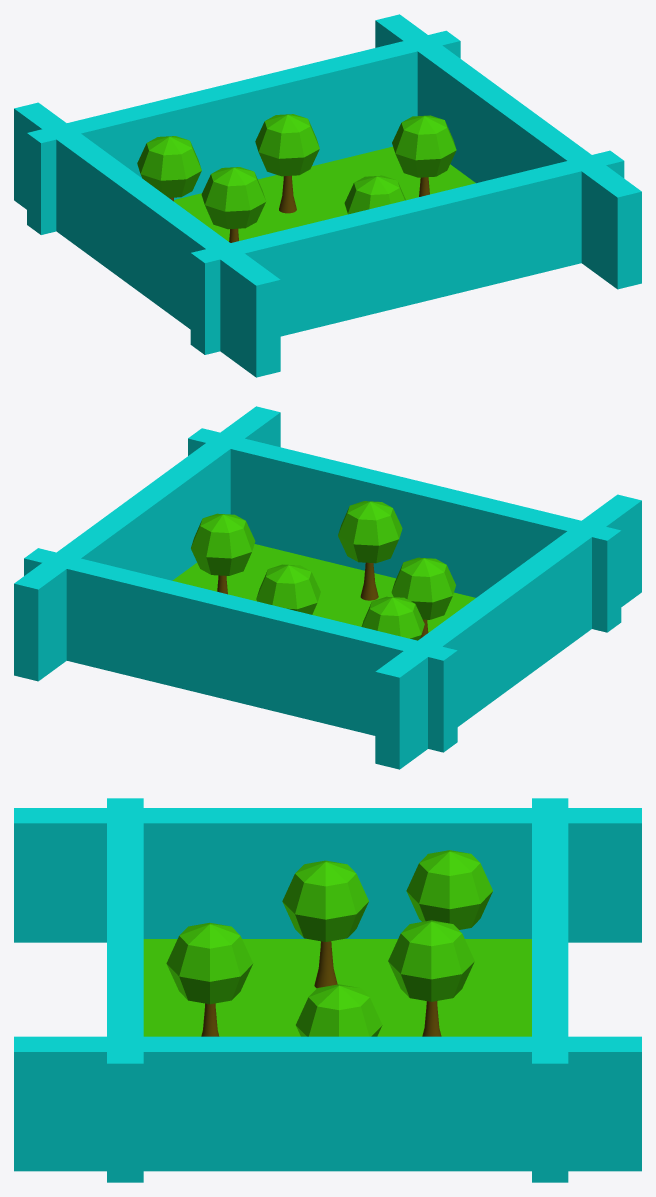
3 renders of one model, top to bottom at view 1: azimuth 30°, elevation 25°; view 2: azimuth 150°, elevation 25°; view 3: azimuth 270°, elevation 25°, orthographic. The views are drawn at different scales.
Visible parts, largest first — view 1: group2_pCube5; view 2: group2_pCube5; view 3: group2_pCube5.
Part boxes in pixels (box(x1,y1,x2,y2)): group2_pCube5: box(14, 14, 641, 377); group2_pCube5: box(14, 406, 641, 769); group2_pCube5: box(14, 798, 641, 1182).
Size of the model in its own units: 24.55 by 5.64 by 24.55.
